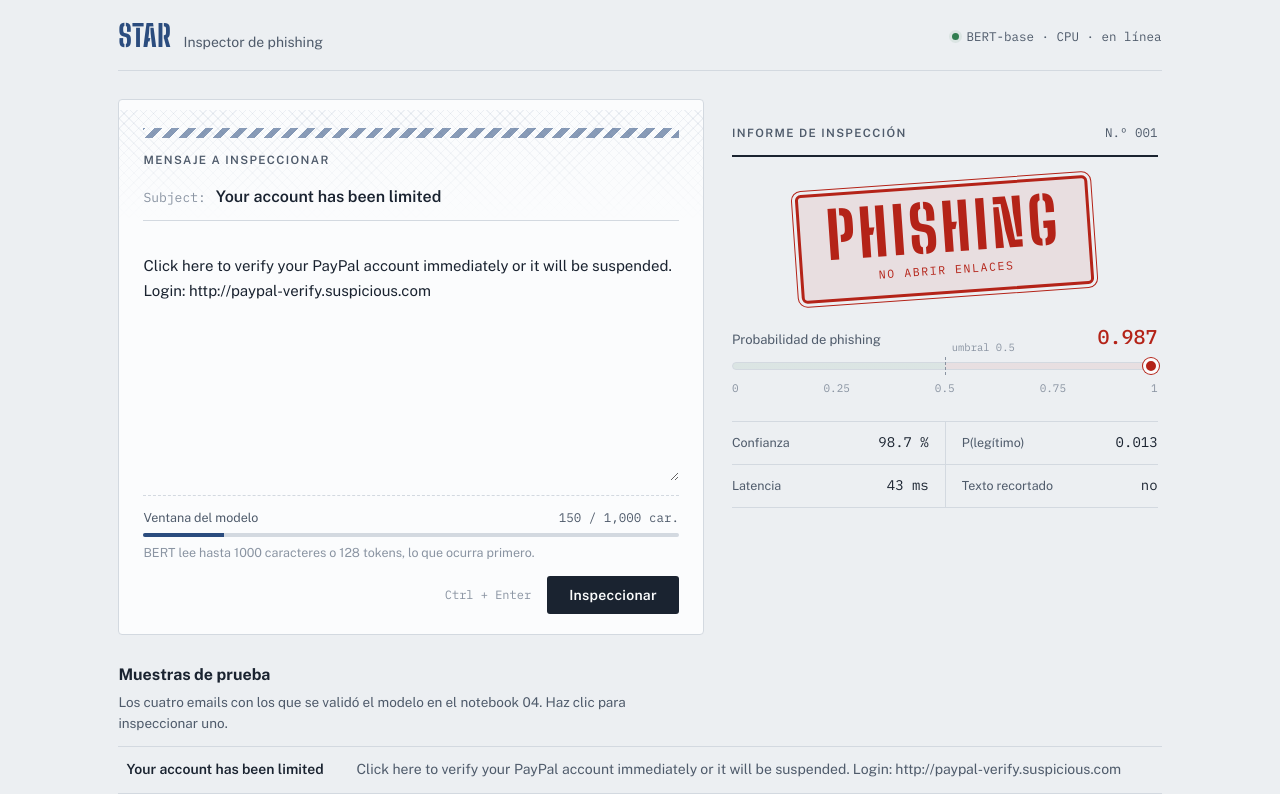
App: errores › si falla tras un resultado, conserva el informe anterior junto al error
This screenshot has width=1280, height=794.
Expected: the text "N.º 001" is shown, [1105,123,1158,142]
Click the button "Inspeccionar" at (613, 595), box [547,576,679,614]
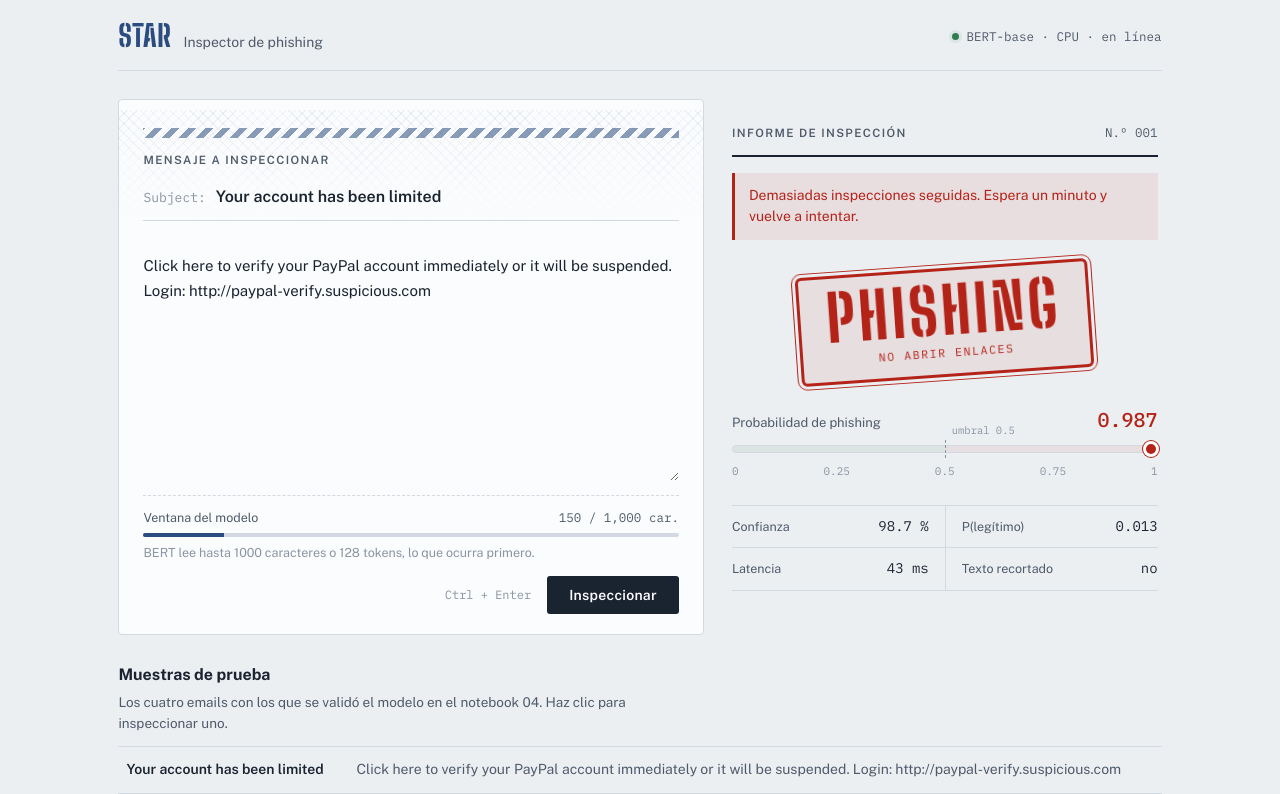
Expected: the text "N.º 001" is shown, [1105,123,1158,142]
Expected: the text "Demasiadas inspecciones" is shown, [749,186,1107,224]
